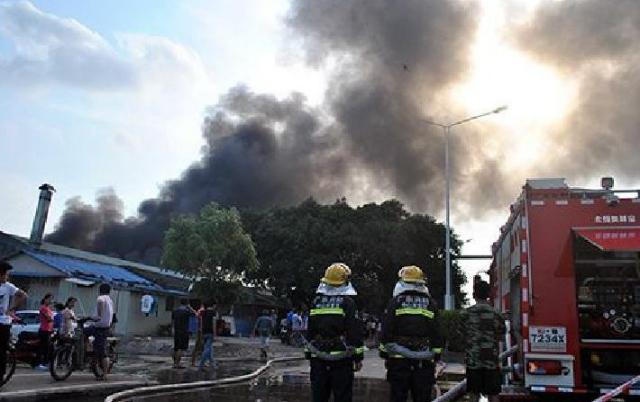smoke: (196, 82, 330, 206), (334, 77, 448, 204), (294, 0, 482, 73), (565, 71, 637, 184), (521, 1, 637, 64), (49, 193, 131, 257), (450, 131, 504, 213), (141, 171, 195, 247)
